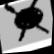not correct: (1, 0, 54, 45)
